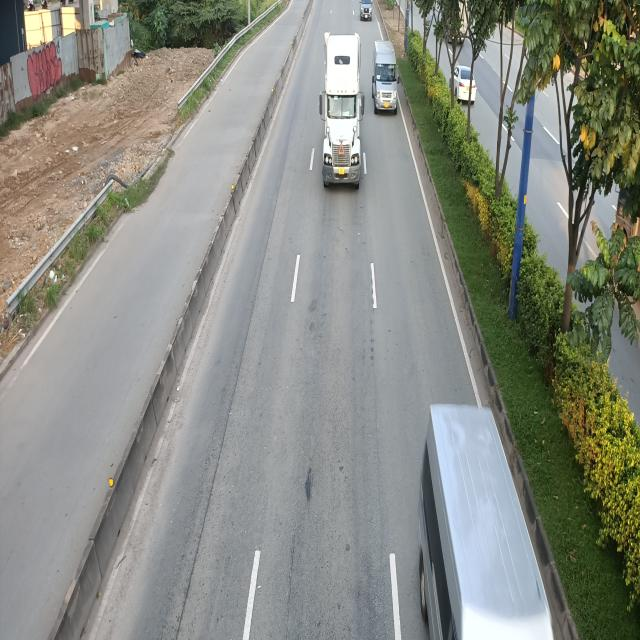container: (321, 31, 366, 186)
van: (419, 407, 554, 640), (372, 39, 400, 113)
